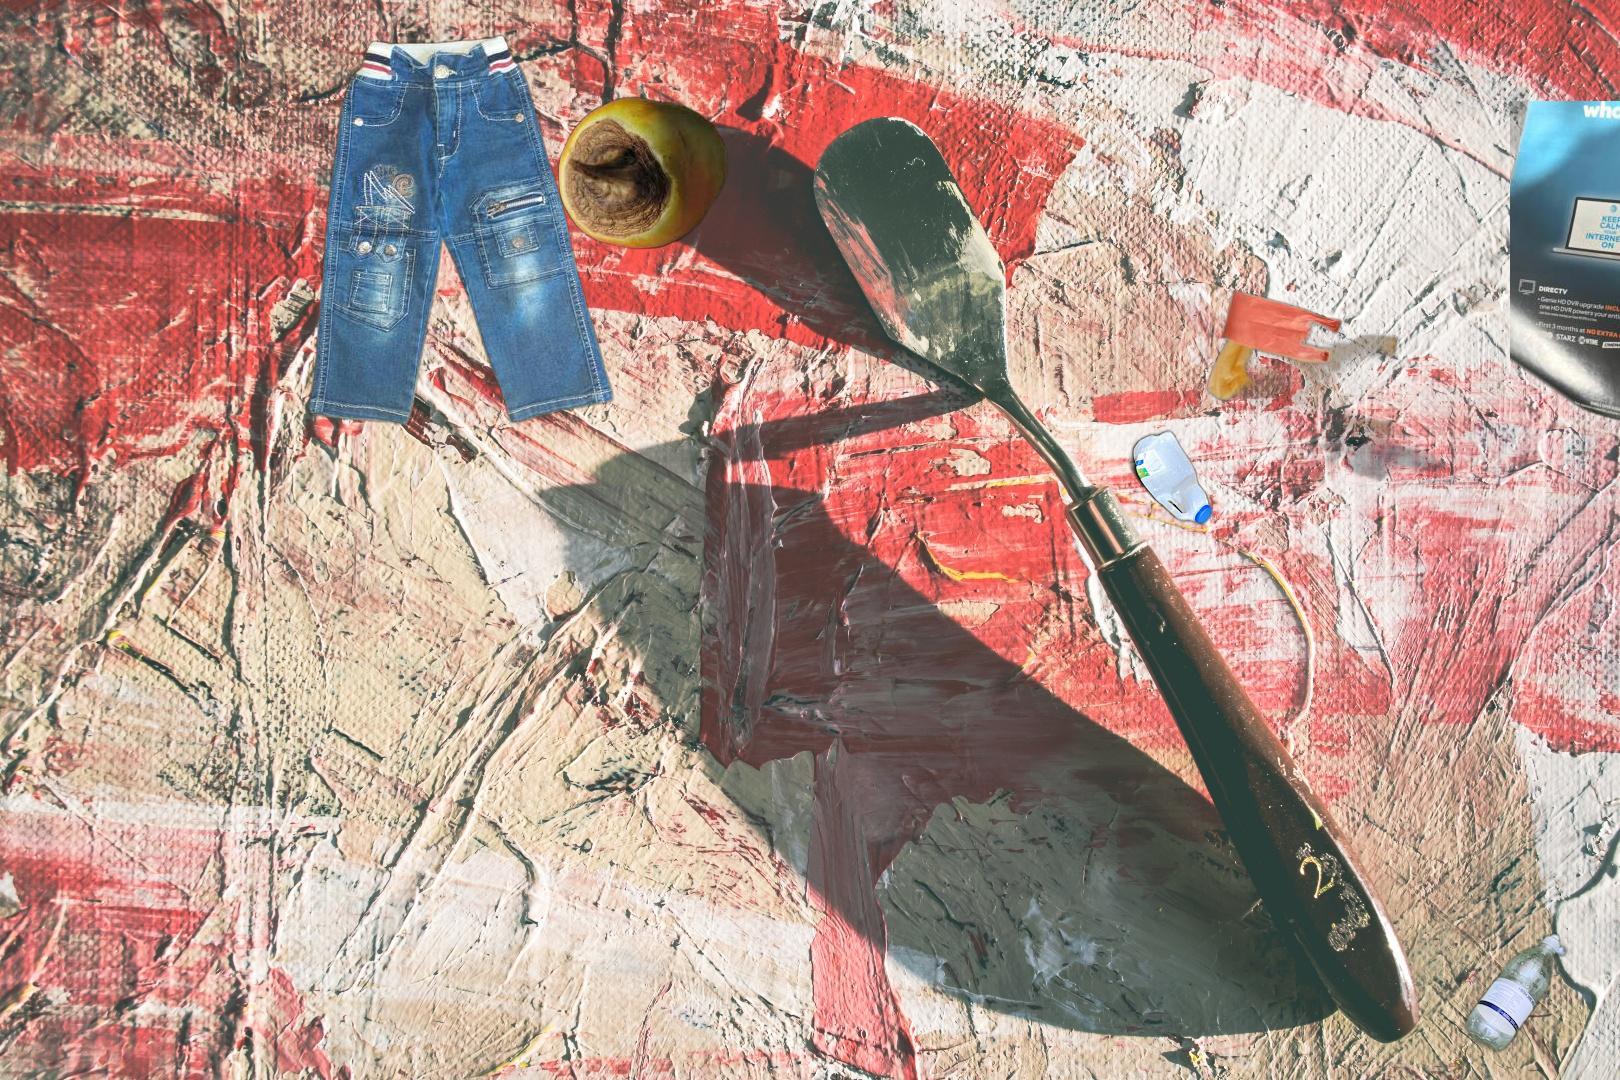biological: (556, 94, 730, 252)
clothes: (304, 33, 617, 425)
paper: (1510, 101, 1620, 462)
plastic-bag: (1204, 281, 1466, 512)
plastic-bottles: (1458, 928, 1572, 1057), (1125, 425, 1217, 530)
